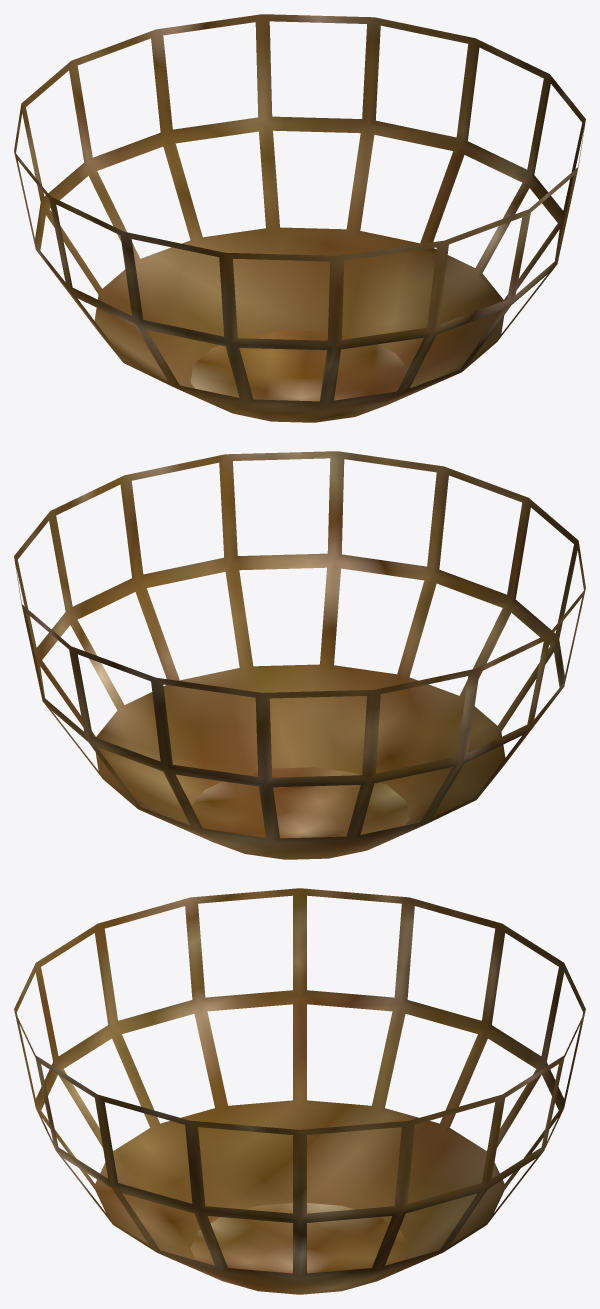
Rendered from cuenco.obj.
The picture shows the model from 3 angles, top to bottom: view 1: azimuth 30°, elevation 25°; view 2: azimuth 150°, elevation 25°; view 3: azimuth 270°, elevation 25°; orthographic projection.
Visible parts, largest first — view 1: polySurface2 Mesh; view 2: polySurface2 Mesh; view 3: polySurface2 Mesh.
Part boxes in pixels (box(x1,y1,x2,y2)): polySurface2 Mesh: box(14, 14, 585, 422); polySurface2 Mesh: box(14, 451, 585, 859); polySurface2 Mesh: box(14, 888, 585, 1294).
Size of the model in its own units: 0.5971 by 0.2985 by 0.5971.
